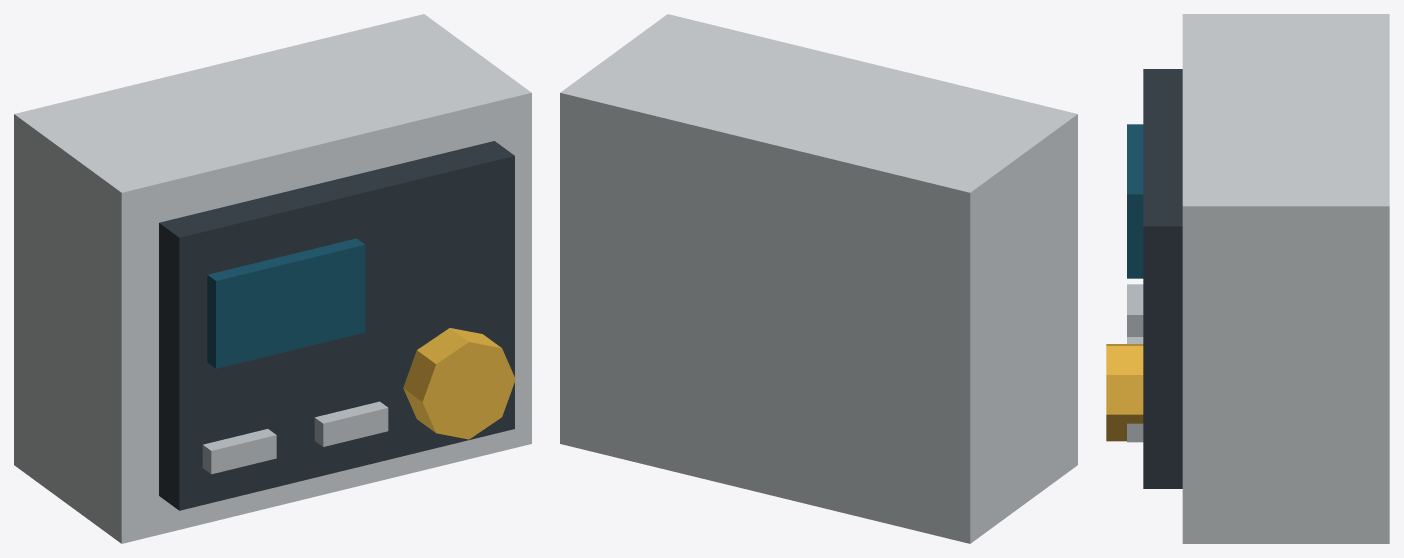
The model's file is perilune-pressograph.glb.
3 views of the same model, side by side, from view 1: azimuth 30°, elevation 25°; view 2: azimuth 150°, elevation 25°; view 3: azimuth 270°, elevation 25° (orthographic). The views are drawn at different scales.
Parts seen in each view (by area): view 1: SM_Science_Pressograph_Housing, SM_Science_Pressograph_Face, SM_Science_Pressograph_Display, SM_Science_Pressograph_Dial, SM_Science_Pressograph_Vent_02, SM_Science_Pressograph_Vent_01; view 2: SM_Science_Pressograph_Housing; view 3: SM_Science_Pressograph_Housing, SM_Science_Pressograph_Face, SM_Science_Pressograph_Dial, SM_Science_Pressograph_Display, SM_Science_Pressograph_Vent_01.
Part boxes in pixels (x1,y1,x2,y2): SM_Science_Pressograph_Housing: (14,14,531,543); SM_Science_Pressograph_Face: (159,141,514,510); SM_Science_Pressograph_Display: (207,238,365,368); SM_Science_Pressograph_Dial: (403,328,515,439); SM_Science_Pressograph_Vent_02: (314,401,388,446); SM_Science_Pressograph_Vent_01: (202,429,276,474); SM_Science_Pressograph_Housing: (560,14,1077,543); SM_Science_Pressograph_Housing: (1182,14,1389,543); SM_Science_Pressograph_Face: (1143,69,1182,488); SM_Science_Pressograph_Dial: (1106,344,1143,441); SM_Science_Pressograph_Display: (1127,124,1143,278); SM_Science_Pressograph_Vent_01: (1127,284,1143,336).
Bounding box in the file's own units: 0.22 × 0.18 × 0.137.
